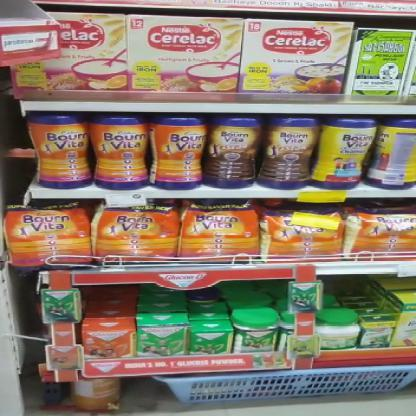Glucon D Regular 1-KG: (135, 318, 184, 355), (186, 323, 229, 352)
Glucon D Regular 2-KG: (234, 306, 277, 351)
Glucon D Tangy orange 1-KG: (84, 318, 132, 358)
